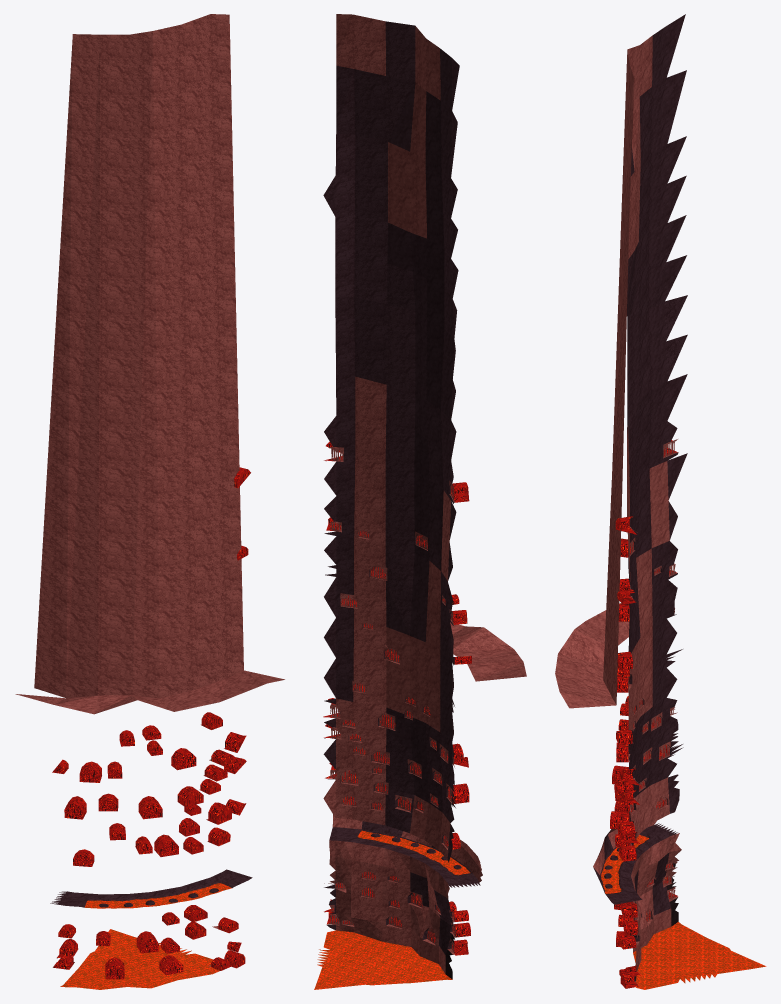
File: map_base_s2.glb
3 views of the same model, side by side, from view 1: azimuth 30°, elevation 25°; view 2: azimuth 150°, elevation 25°; view 3: azimuth 270°, elevation 25° (orthographic). The views are drawn at different scales.
Visible parts, largest first — view 1: MapBaseS2Rock; view 2: MapBaseS2Rock; view 3: MapBaseS2Rock.
Boxes of the visible parts, left/top/right/bottom form: MapBaseS2Rock: left=15, top=14, right=284, bottom=989; MapBaseS2Rock: left=314, top=14, right=526, bottom=989; MapBaseS2Rock: left=555, top=14, right=766, bottom=989.
Size of what is drawn, in the model's own units: 85.72 by 342 by 72.74.
6 materials, 6 textured.
